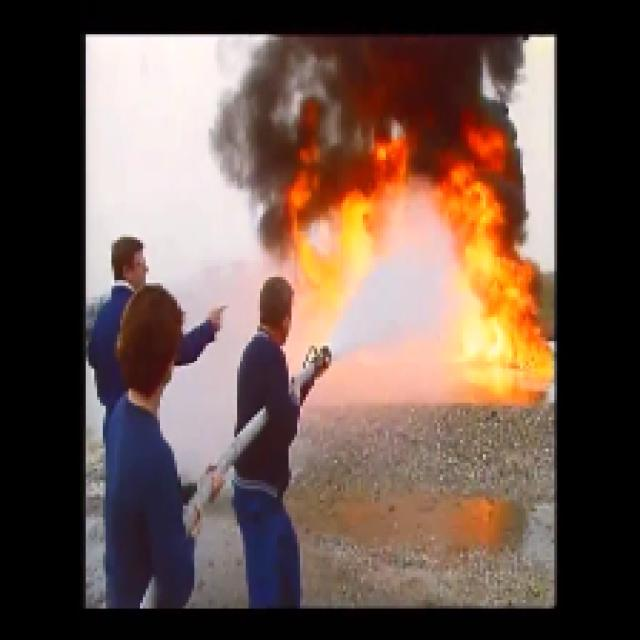fire: (448, 192, 544, 386), (320, 197, 367, 278)
smoke: (296, 42, 495, 130)
